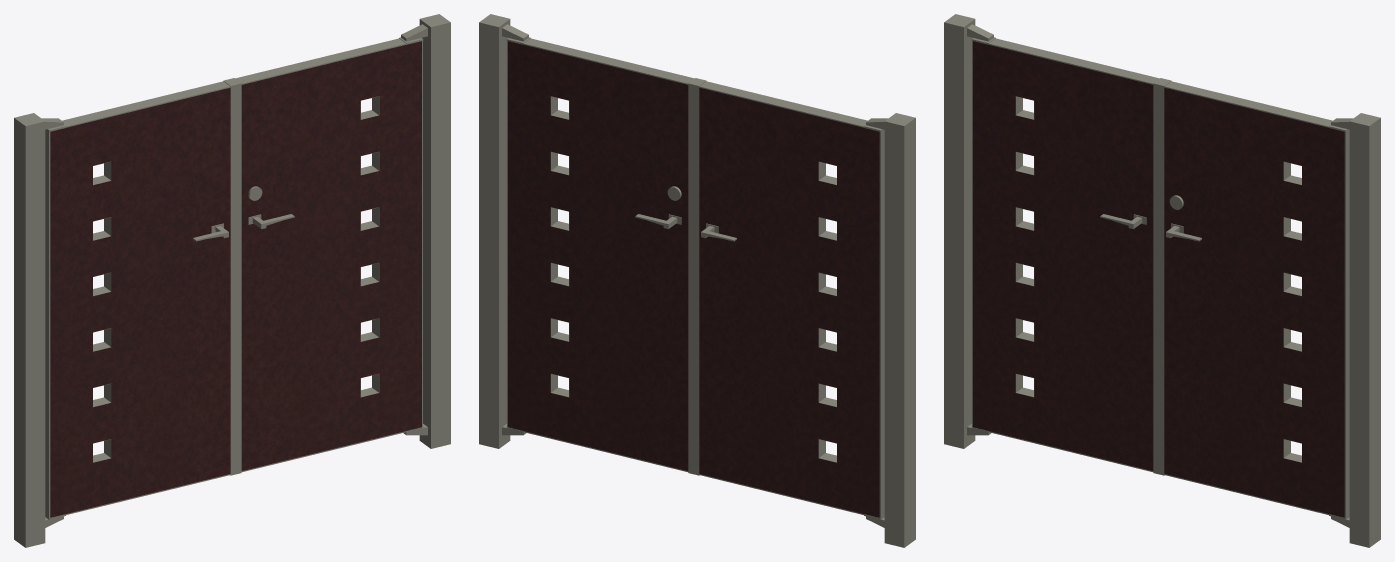
Rendered from abmonpi-komado_h1400-w1400_rustycopper.fbx.
3 views of the same model, side by side, from view 1: azimuth 30°, elevation 25°; view 2: azimuth 150°, elevation 25°; view 3: azimuth 330°, elevation 25° (orthographic).
Visible parts, largest first — view 1: abmonpi-komado_h1400-w1400_rustycopper.004; view 2: abmonpi-komado_h1400-w1400_rustycopper.004; view 3: abmonpi-komado_h1400-w1400_rustycopper.004.
Part boxes in pixels (box(x1,y1,x2,y2)): abmonpi-komado_h1400-w1400_rustycopper.004: box(14, 14, 450, 547); abmonpi-komado_h1400-w1400_rustycopper.004: box(479, 14, 915, 547); abmonpi-komado_h1400-w1400_rustycopper.004: box(944, 14, 1380, 547).
Bounding box in the file's own units: 160 × 152 × 16.7.
Materials: 2 (2 with a texture image).
